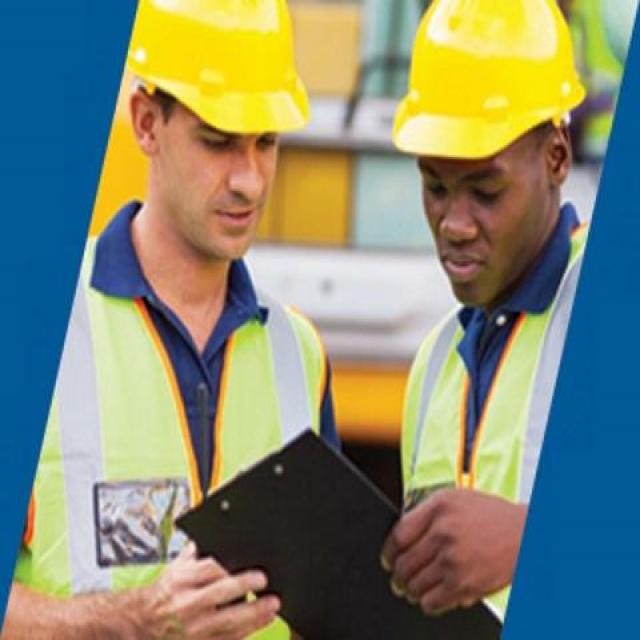Reflective-Jacket: (1, 237, 338, 635), (398, 230, 638, 630)
Safety-Helmet: (390, 5, 586, 166), (120, 2, 313, 146)
